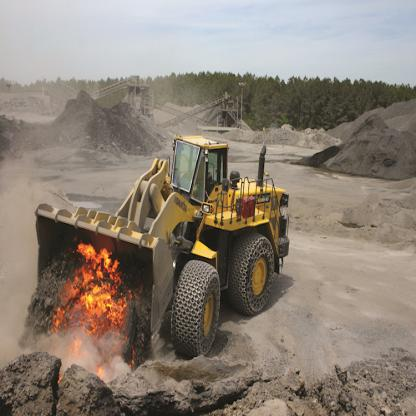bull_dozer/loader/grader: (39, 131, 294, 367)
